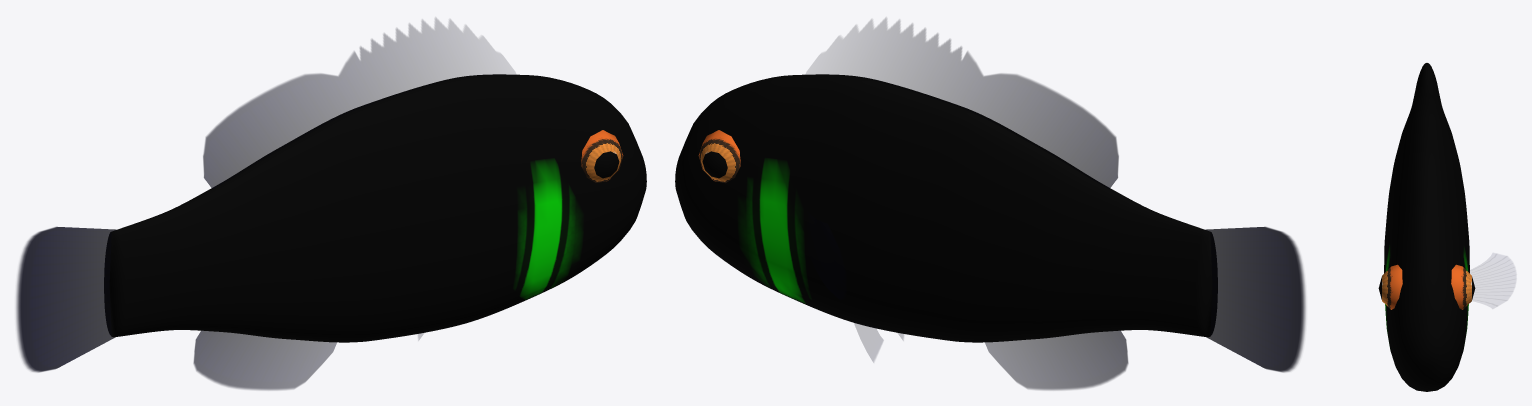
The model's file is clown_orange.glb.
3 renders of one model, left to right at view 1: azimuth 30°, elevation 25°; view 2: azimuth 150°, elevation 25°; view 3: azimuth 270°, elevation 25°, orthographic. The views are drawn at different scales.
Visible parts, largest first — view 1: Body, FinDorsal, FinCaudal, FinAnal, EyeR; view 2: Body, FinDorsal, FinCaudal, FinAnal, EyeL, FinPelvicL; view 3: Body, EyeL, EyeR, FinPectoralL.
Boxes of the visible parts, x1,y1,x2,y2 form: Body: (104,74,646,342); FinDorsal: (203,18,515,188); FinCaudal: (16,227,117,372); FinAnal: (193,330,336,390); EyeR: (581,130,623,182); Body: (675,74,1217,342); FinDorsal: (806,18,1118,188); FinCaudal: (1204,227,1305,372); FinAnal: (985,330,1128,390); EyeL: (698,130,740,182); FinPelvicL: (854,322,883,362); Body: (1384,63,1469,391); EyeL: (1451,264,1475,309); EyeR: (1378,264,1402,309); FinPectoralL: (1470,254,1515,306).
Size of the model in its own units: 1 by 0.5195 by 0.2844.
4 materials, 3 textured.
